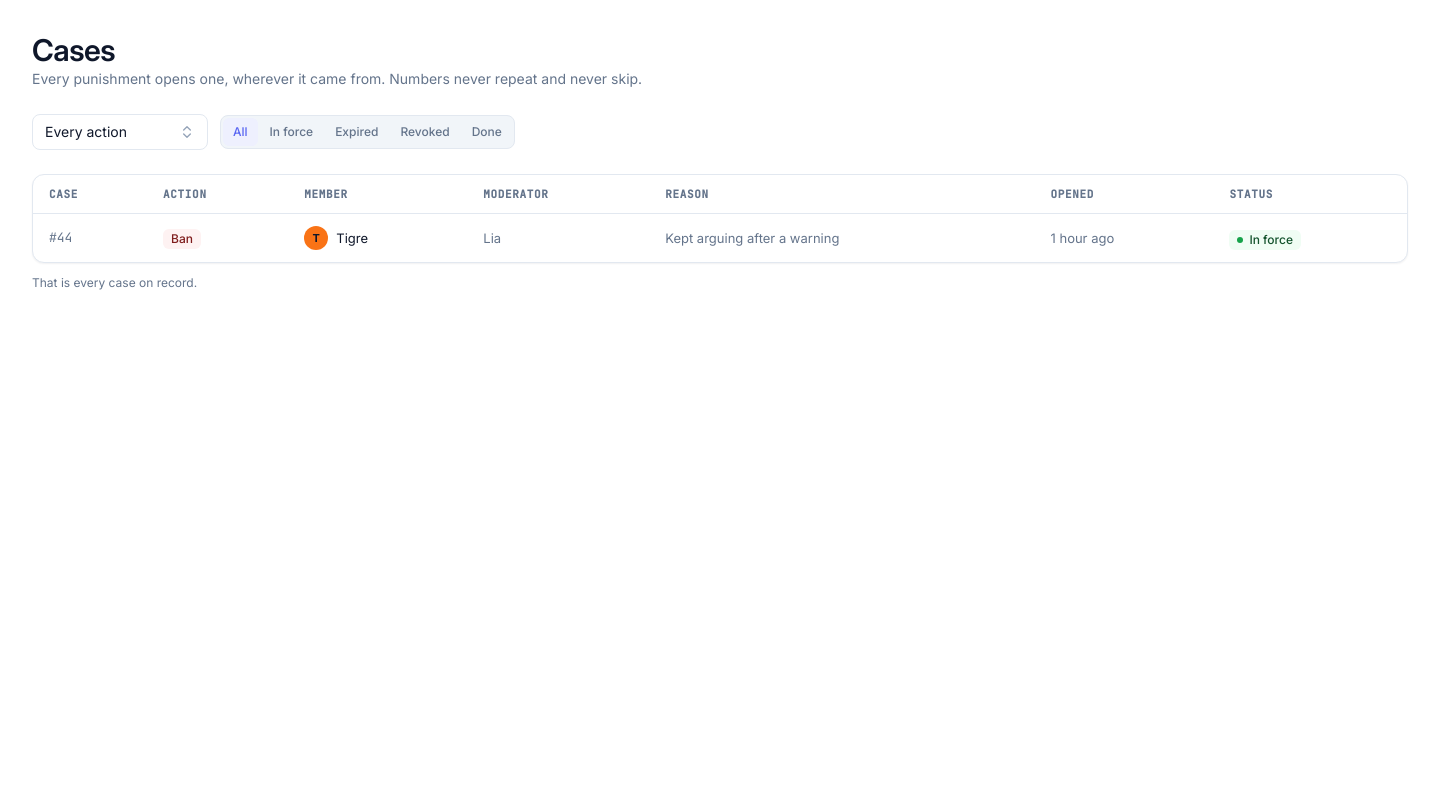
CasesScreen › says what kind of case it is, which only the rows below used to say
Click the button with aria-label "Open case 44": (720, 238) [33, 214, 1407, 262]
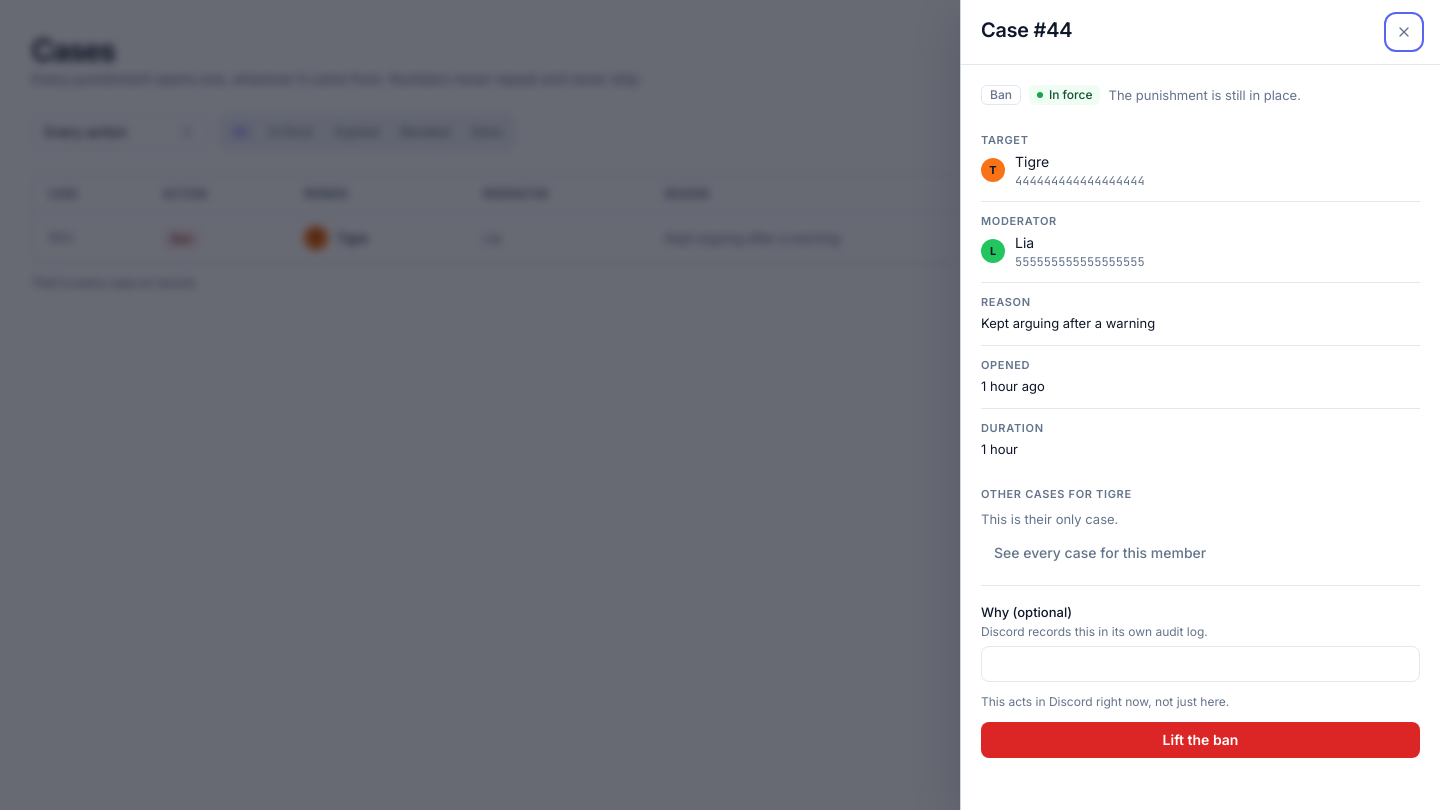
expect the text "Ban" is shown: met, box [981, 85, 1021, 105]
